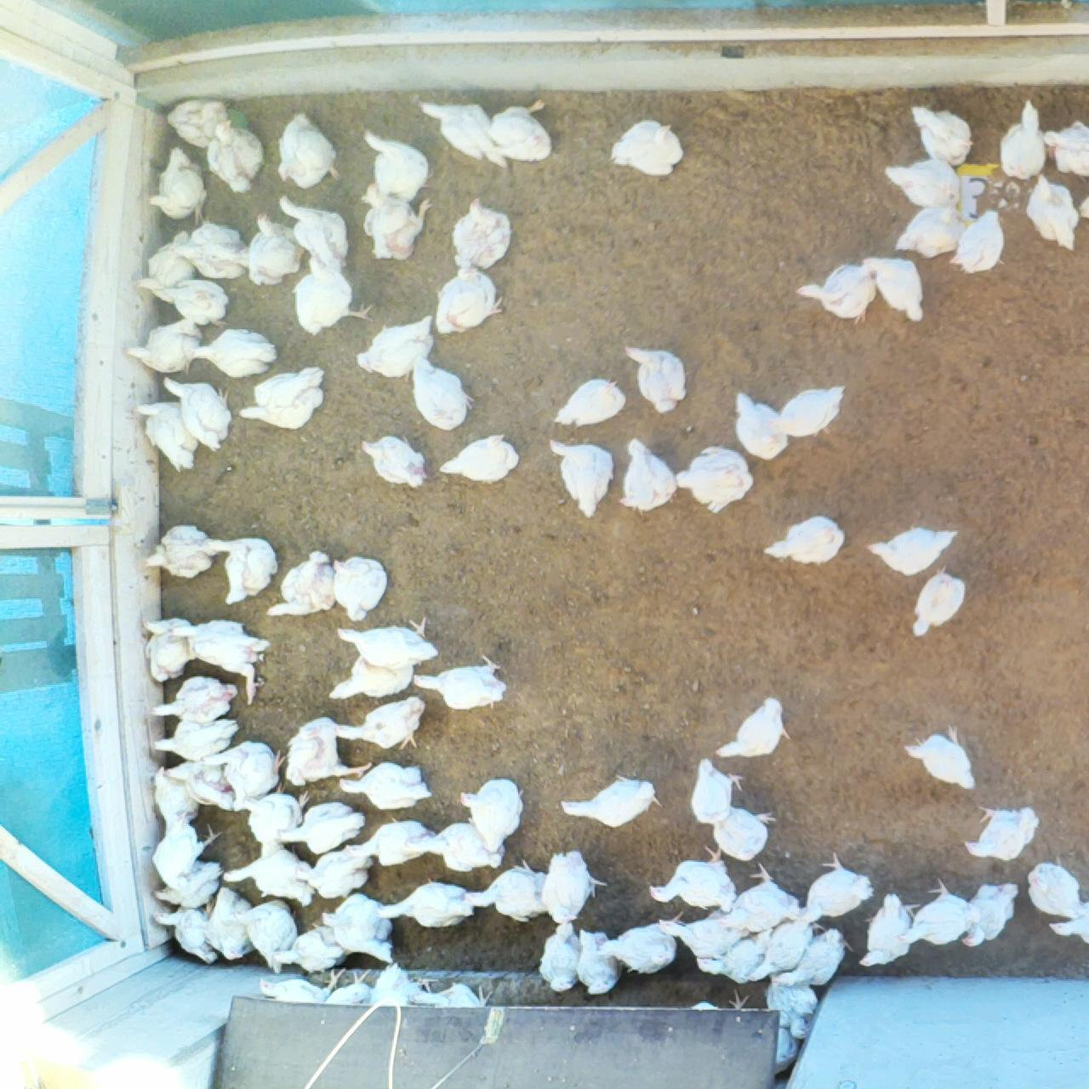chicken: (173, 620, 270, 707), (291, 255, 372, 338), (272, 192, 352, 276), (648, 844, 739, 915), (417, 98, 505, 170), (197, 740, 286, 810), (718, 862, 803, 935), (221, 847, 321, 909), (334, 691, 430, 754), (151, 809, 222, 894), (285, 716, 372, 785), (560, 771, 665, 828), (460, 861, 556, 923), (238, 364, 327, 430), (358, 182, 432, 260), (413, 653, 506, 715), (160, 374, 235, 450), (597, 909, 683, 975), (321, 892, 398, 965), (206, 531, 281, 605), (549, 439, 618, 519), (375, 878, 477, 932), (673, 444, 754, 512), (241, 780, 309, 860), (713, 694, 794, 761), (404, 819, 508, 871), (797, 258, 877, 325), (540, 847, 606, 928), (336, 615, 440, 666), (802, 851, 875, 923), (895, 876, 971, 945), (275, 798, 363, 857), (773, 924, 854, 988), (278, 113, 345, 190), (358, 312, 438, 376), (361, 130, 429, 205), (135, 400, 203, 474), (340, 819, 436, 871), (856, 890, 920, 968), (659, 906, 748, 962), (865, 523, 959, 576), (460, 775, 528, 848), (623, 344, 691, 417), (150, 897, 224, 964), (965, 805, 1047, 865), (761, 512, 844, 571), (409, 356, 477, 428), (904, 725, 976, 793), (232, 901, 299, 974), (327, 654, 415, 709), (267, 547, 336, 617), (122, 315, 202, 375), (451, 197, 515, 272), (617, 438, 679, 515), (338, 760, 431, 811), (909, 562, 969, 641), (151, 674, 242, 726), (149, 146, 207, 227), (1025, 171, 1083, 252), (205, 122, 271, 193), (863, 254, 928, 326), (609, 118, 684, 180), (767, 383, 847, 441), (704, 800, 776, 864), (188, 327, 276, 379), (142, 521, 218, 581), (153, 716, 242, 767), (434, 268, 502, 334), (946, 207, 1011, 276), (139, 229, 197, 306), (892, 204, 969, 262), (438, 430, 520, 484), (174, 221, 249, 280), (997, 97, 1049, 182), (241, 216, 305, 285), (201, 884, 256, 964), (328, 554, 391, 623), (958, 879, 1021, 947), (693, 931, 769, 987), (908, 103, 974, 167), (489, 96, 552, 163), (746, 920, 813, 983), (733, 388, 789, 462), (885, 160, 963, 212), (296, 846, 375, 897), (686, 755, 745, 823), (552, 375, 627, 428), (273, 922, 349, 973), (161, 759, 235, 810), (139, 618, 195, 685), (1024, 858, 1086, 918), (359, 437, 429, 490), (257, 966, 347, 1007), (154, 278, 230, 326), (763, 971, 817, 1036), (572, 927, 622, 997), (538, 921, 584, 996), (150, 861, 225, 907), (168, 100, 235, 150), (150, 765, 199, 828), (372, 960, 434, 1009), (1044, 122, 1089, 178), (324, 964, 378, 1010), (406, 979, 492, 1007), (1047, 901, 1089, 947), (771, 1023, 802, 1079)
